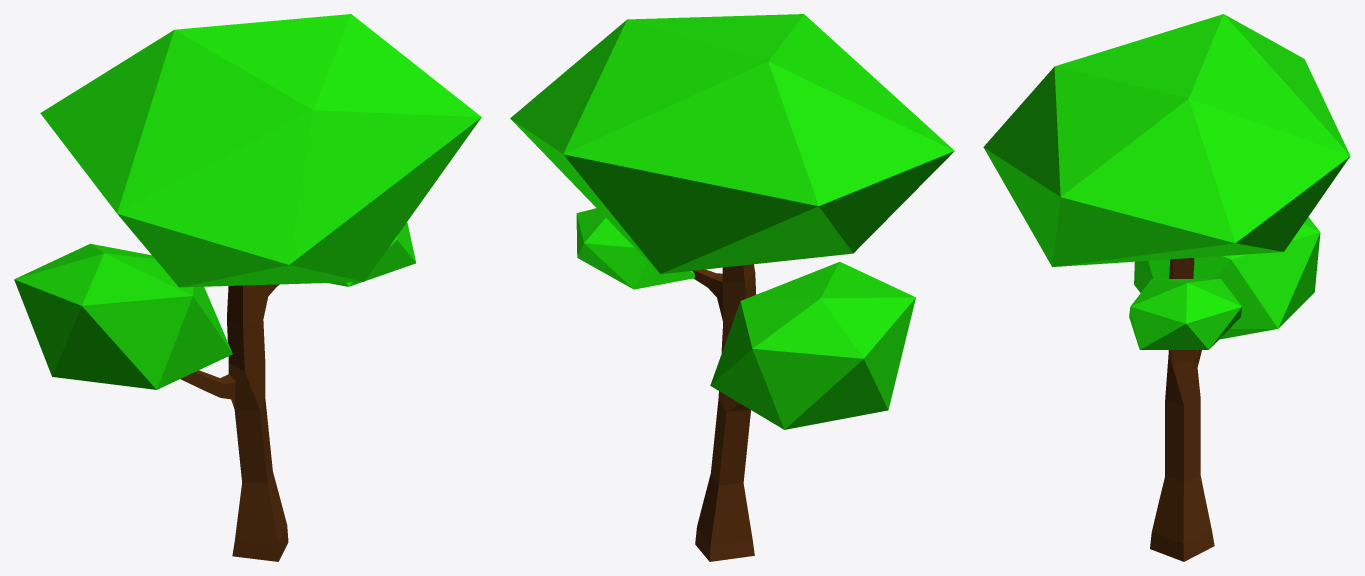
The model's file is Tree_2.fbx.
The picture shows the model from 3 angles, left to right: view 1: azimuth 30°, elevation 25°; view 2: azimuth 150°, elevation 25°; view 3: azimuth 270°, elevation 25°; orthographic projection. The views are drawn at different scales.
Parts seen in each view (by area): view 1: Icosphere, Stump; view 2: Icosphere, Stump; view 3: Icosphere, Stump.
Boxes of the visible parts, box(x1,y1,x2,y2) form: Icosphere: box(14, 14, 481, 389); Stump: box(180, 284, 288, 561); Icosphere: box(510, 14, 954, 429); Stump: box(693, 264, 756, 561); Icosphere: box(983, 14, 1350, 349); Stump: box(1150, 258, 1214, 561).
Size of the model in its own units: 405 by 531 by 351.
